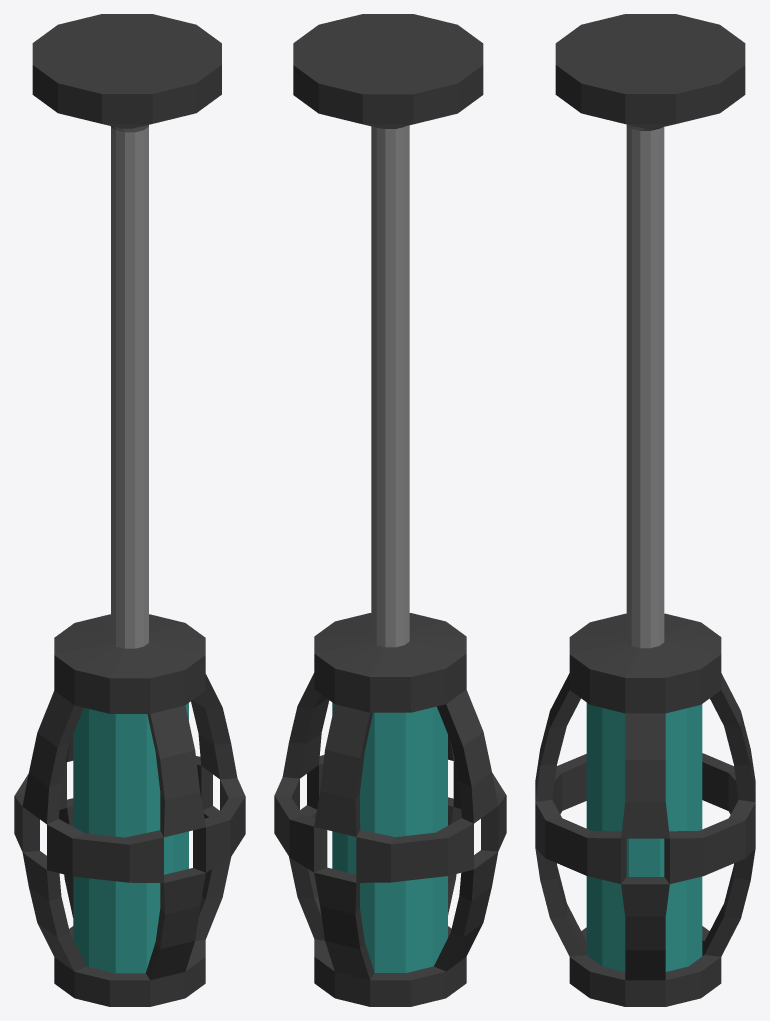
The model's file is Lamp.fbx.
3 views of the same model, side by side, from view 1: azimuth 30°, elevation 25°; view 2: azimuth 150°, elevation 25°; view 3: azimuth 270°, elevation 25° (orthographic).
Visible parts, largest first — view 1: Cylinder; view 2: Cylinder; view 3: Cylinder.
Part boxes in pixels (x1=…): Cylinder: x1=14, y1=14, x2=245, y2=1006; Cylinder: x1=274, y1=14, x2=506, y2=1006; Cylinder: x1=535, y1=14, x2=755, y2=1006.
Size of the model in its own units: 67.36 by 313 by 67.36.
